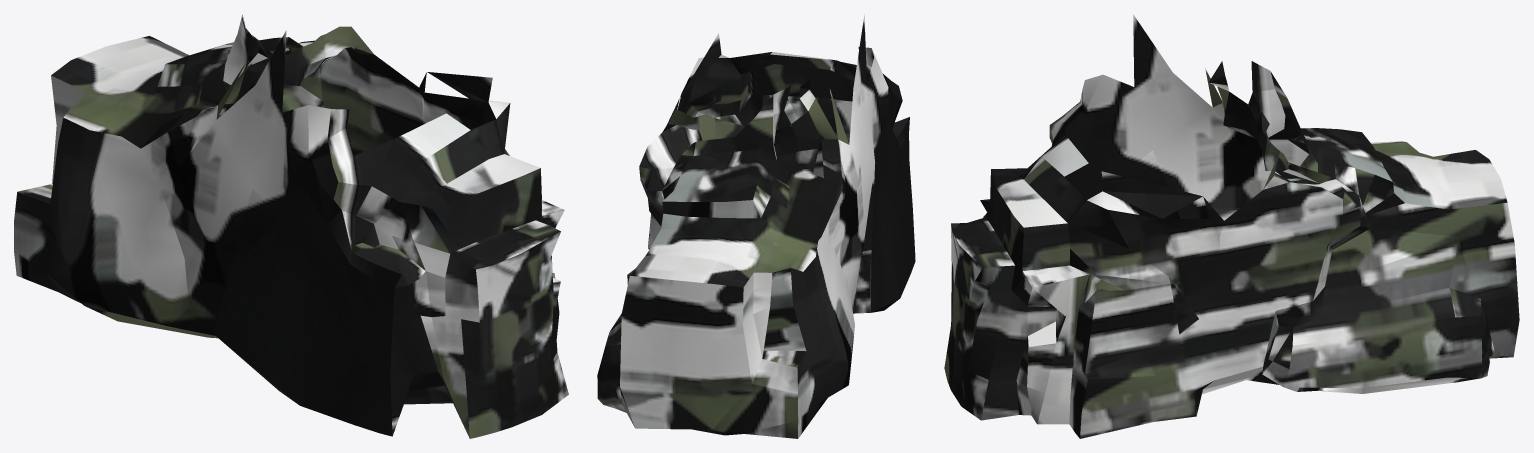
The model's file is soldier_1_boots.obj.
3 renders of one model, left to right at view 1: azimuth 30°, elevation 25°; view 2: azimuth 150°, elevation 25°; view 3: azimuth 270°, elevation 25°, orthographic. The views are drawn at different scales.
Visible parts, largest first — view 1: soldier_1_boots; view 2: soldier_1_boots; view 3: soldier_1_boots.
Boxes of the visible parts, <box> form: soldier_1_boots: <box>14,14,568,438</box>; soldier_1_boots: <box>597,14,915,438</box>; soldier_1_boots: <box>944,14,1519,438</box>.
Bounding box in the file's own units: 0.2903 × 0.2852 × 0.4624.
